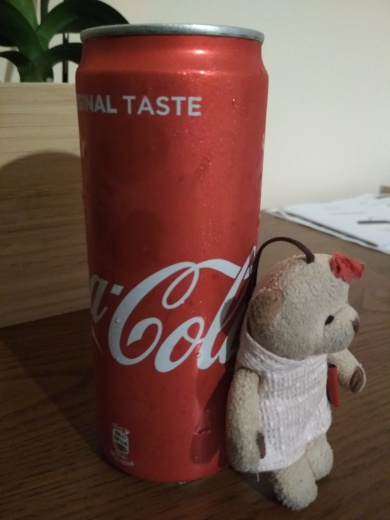cola: (71, 15, 281, 497)
